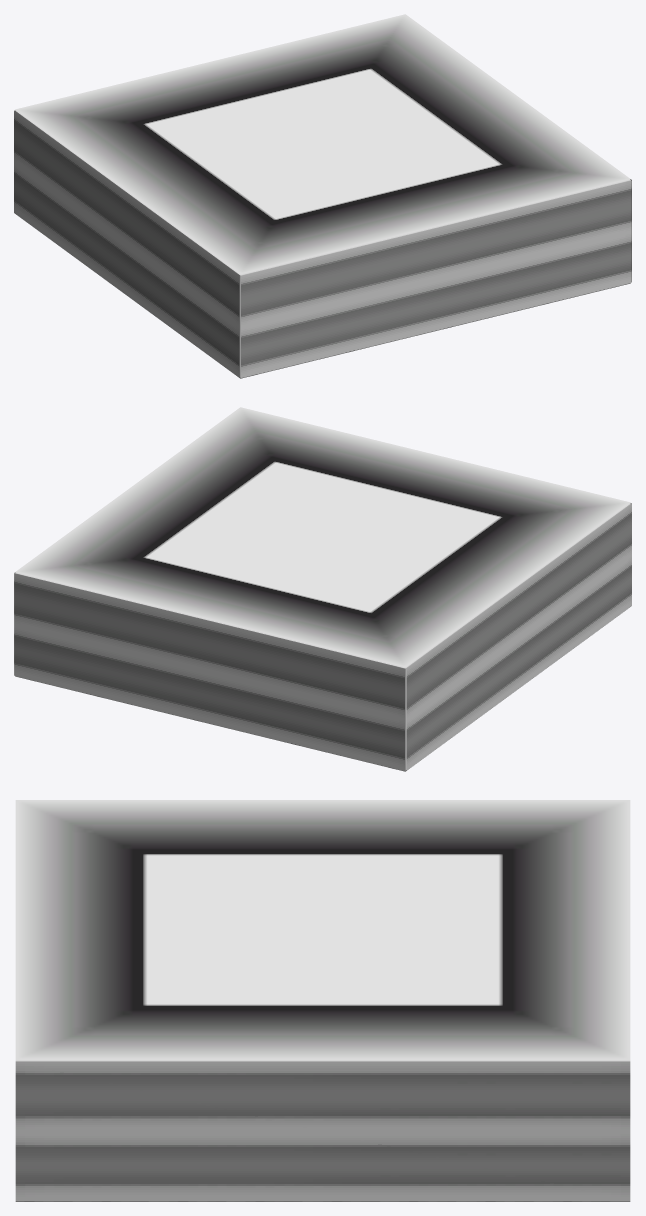
Rendered from teleporter.obj.
The picture shows the model from 3 angles, top to bottom: view 1: azimuth 30°, elevation 25°; view 2: azimuth 150°, elevation 25°; view 3: azimuth 270°, elevation 25°; orthographic projection. The views are drawn at different scales.
Visible parts, largest first — view 1: Teleporter7, Teleporter5, Teleporter3, Teleporter1; view 2: Teleporter7, Teleporter4, Teleporter3, Teleporter1; view 3: Teleporter7, Teleporter6, Teleporter1, Teleporter2.
Part boxes in pixels (<box>): Teleporter7: <box>15,14,630,274</box>; Teleporter5: <box>241,180,631,377</box>; Teleporter3: <box>14,111,239,377</box>; Teleporter1: <box>15,110,630,377</box>; Teleporter7: <box>15,407,630,667</box>; Teleporter4: <box>14,573,404,770</box>; Teleporter3: <box>406,504,631,770</box>; Teleporter1: <box>15,503,630,770</box>; Teleporter7: <box>15,800,630,1059</box>; Teleporter6: <box>15,1062,630,1201</box>; Teleporter1: <box>15,1060,630,1061</box>; Teleporter2: <box>15,1201,630,1201</box>.
Bounding box in the file's own units: 8.04 × 2.04 × 8.04.
Materials: 4 (3 with a texture image).
